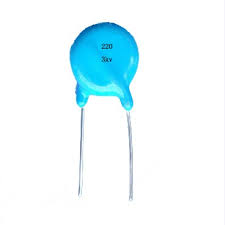ceramic capacitor: (53, 6, 154, 129)
